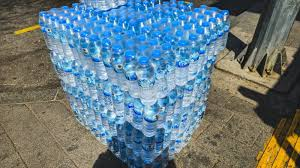Botella: (39, 1, 226, 162)
